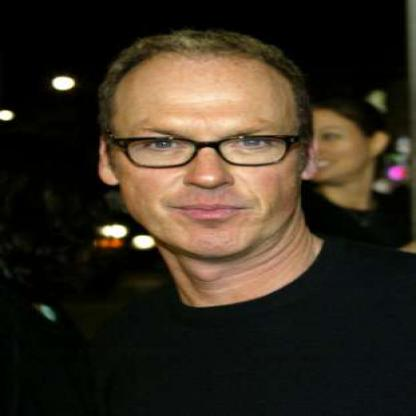face: (111, 32, 310, 259), (285, 100, 372, 183)
